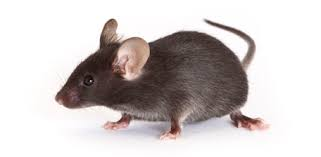mice: (53, 18, 269, 141)
